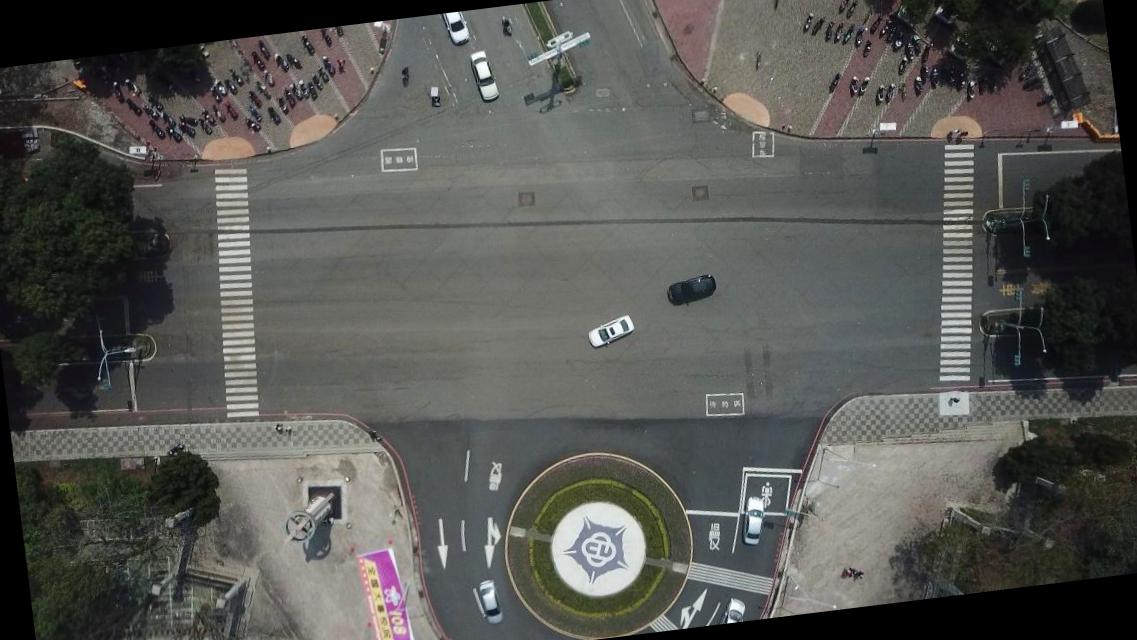vehicle: (586, 314, 636, 350), (666, 273, 717, 307), (737, 494, 769, 546), (468, 49, 498, 102), (476, 580, 502, 625), (442, 10, 470, 45), (720, 596, 746, 622)
